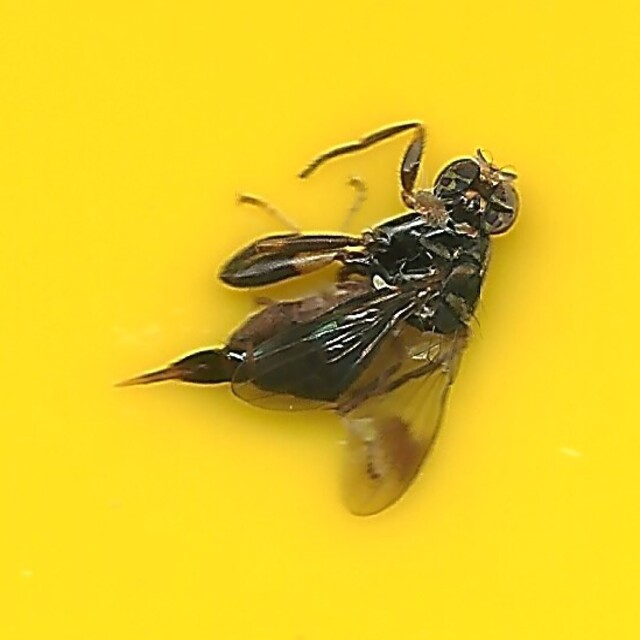Brachycera: (117, 120, 523, 520)
